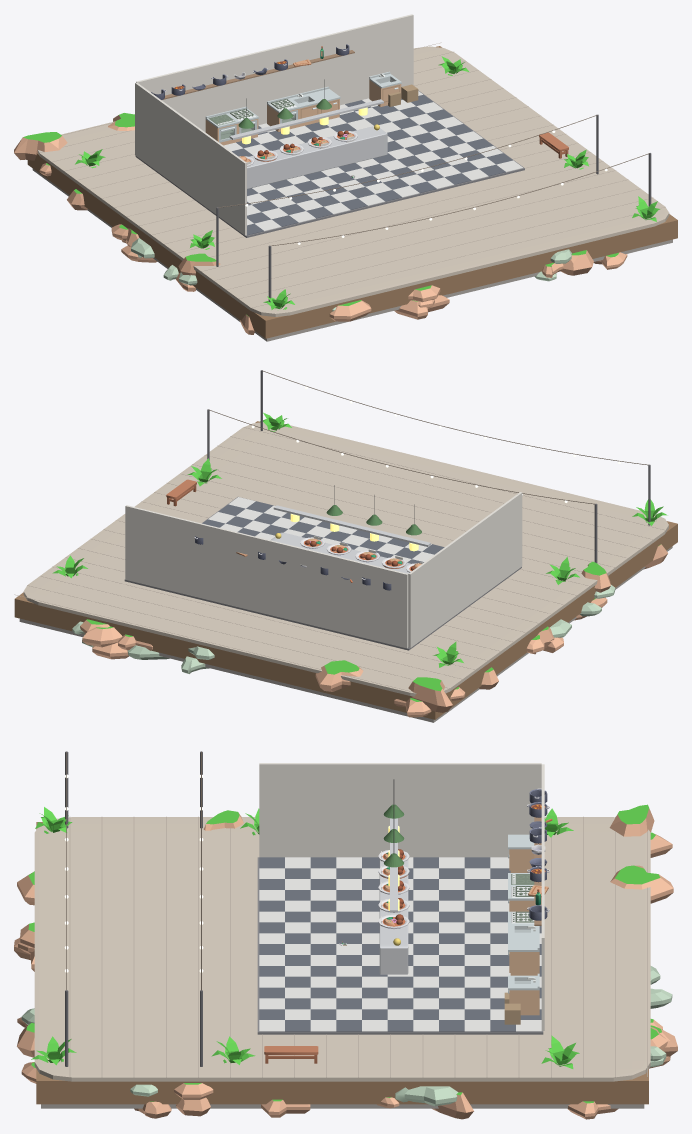
File: kitchen.glb
3 views of the same model, one above another, from view 1: azimuth 30°, elevation 25°; view 2: azimuth 150°, elevation 25°; view 3: azimuth 270°, elevation 25° (orthographic). The views are drawn at different scales.
Parts seen in each view (by area): view 1: box.009, wall, box.010, wall.001, pass, box.011, box.012, rock_largeB.003, kitchenStoveElectric(Clone).001, box.001, kitchenStove(Clone).002, rock_largeC.004 (+5 smaller); view 2: box.009, wall, box.010, wall.001, box.011, rock_largeB.003, rock_largeC.010, box.012, box.001, pass, rock_largeC.005; view 3: box.009, wall.001, box.010, box.011, pass, box.012, rock_largeC.010, kitchenCabinet(Clone).001, kitchenSink(Clone).002, wall, rock_largeB.003, stone_largeA.008 (+9 smaller).
Part boxes in pixels (x1=…): box.009: x1=37, y1=46, x2=669, y2=316; wall: x1=136, y1=14, x2=413, y2=132; box.010: x1=27, y1=46, x2=677, y2=338; wall.001: x1=135, y1=82, x2=246, y2=235; pass: x1=247, y1=126, x2=387, y2=188; box.011: x1=32, y1=168, x2=672, y2=341; box.012: x1=135, y1=90, x2=524, y2=237; rock_largeB.003: x1=14, y1=132, x2=67, y2=160; kitchenStoveElectric(Clone).001: x1=205, y1=111, x2=238, y2=145; box.001: x1=229, y1=99, x2=383, y2=139; kitchenStove(Clone).002: x1=267, y1=96, x2=299, y2=131; rock_largeC.004: x1=329, y1=300, x2=371, y2=321; box.009: x1=23, y1=422, x2=668, y2=696; wall: x1=125, y1=505, x2=408, y2=648; box.010: x1=14, y1=421, x2=677, y2=719; wall.001: x1=408, y1=492, x2=522, y2=647; box.011: x1=19, y1=546, x2=672, y2=722; rock_largeB.003: x1=408, y1=677, x2=452, y2=712; rock_largeC.010: x1=315, y1=660, x2=363, y2=691; box.012: x1=124, y1=496, x2=521, y2=650; box.001: x1=273, y1=505, x2=430, y2=546; pass: x1=270, y1=532, x2=410, y2=573; rock_largeC.005: x1=82, y1=626, x2=122, y2=647; box.009: x1=34, y1=817, x2=650, y2=1081; wall.001: x1=259, y1=763, x2=541, y2=857; box.010: x1=36, y1=822, x2=648, y2=1104; box.011: x1=41, y1=1104, x2=644, y2=1108; pass: x1=379, y1=860, x2=408, y2=974; box.012: x1=257, y1=857, x2=543, y2=1034; rock_largeC.010: x1=610, y1=865, x2=673, y2=903; kitchenCabinet(Clone).001: x1=508, y1=935, x2=539, y2=975; kitchenSink(Clone).002: x1=508, y1=973, x2=539, y2=1015; wall: x1=541, y1=764, x2=544, y2=1030; rock_largeB.003: x1=609, y1=804, x2=654, y2=836; stone_largeA.008: x1=395, y1=1086, x2=458, y2=1106.
Size of the model in its own units: 69.16 by 27.37 by 70.36.
Materials: 115 (14 with a texture image).
